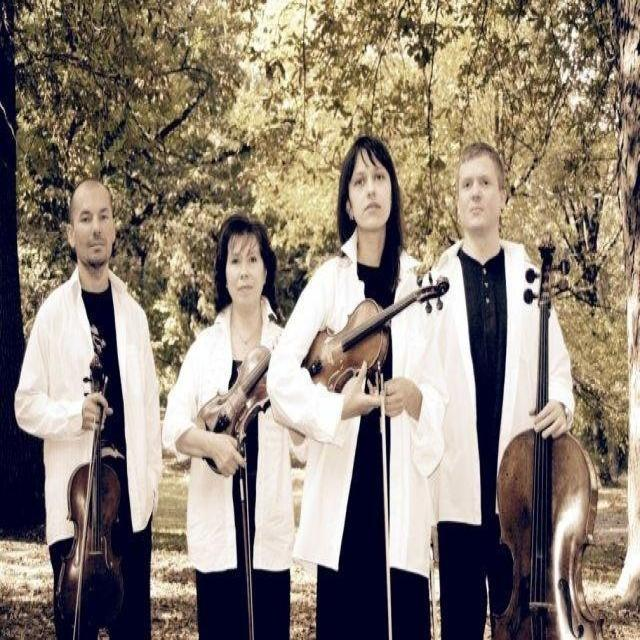cello: (486, 240, 600, 639)
violin: (57, 354, 128, 632), (300, 274, 449, 396), (195, 345, 279, 476)
